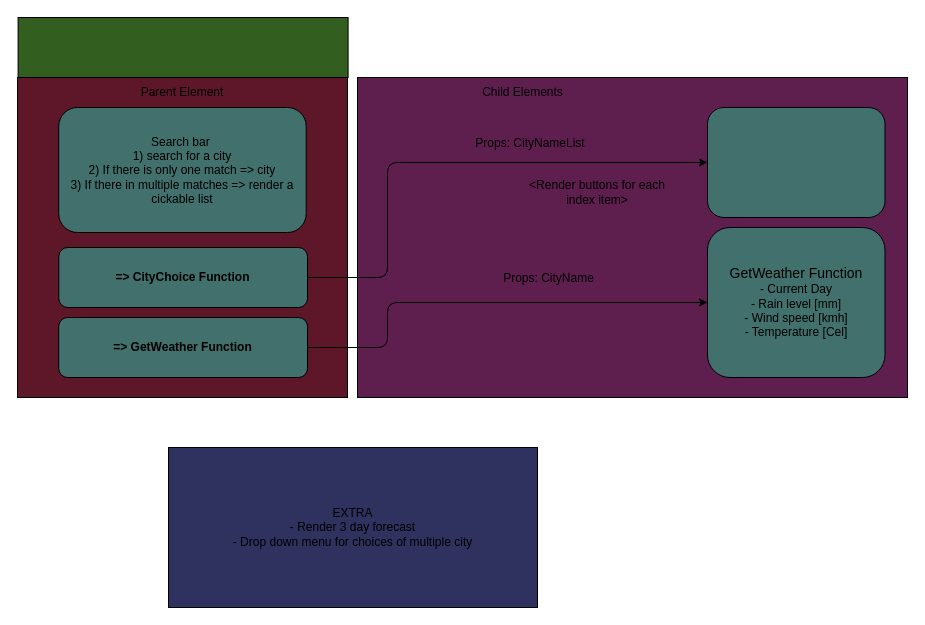
The diagram is 925 pixels wide and 625 high, and some of its shapes have lost their labels. The box of each missing label's shape, as (x1, y1, x2, y2) in pixels:
CityChoice Function - Display all of the cities that match search string: (706, 106, 885, 218)
Current weather forecast: (17, 16, 348, 78)
